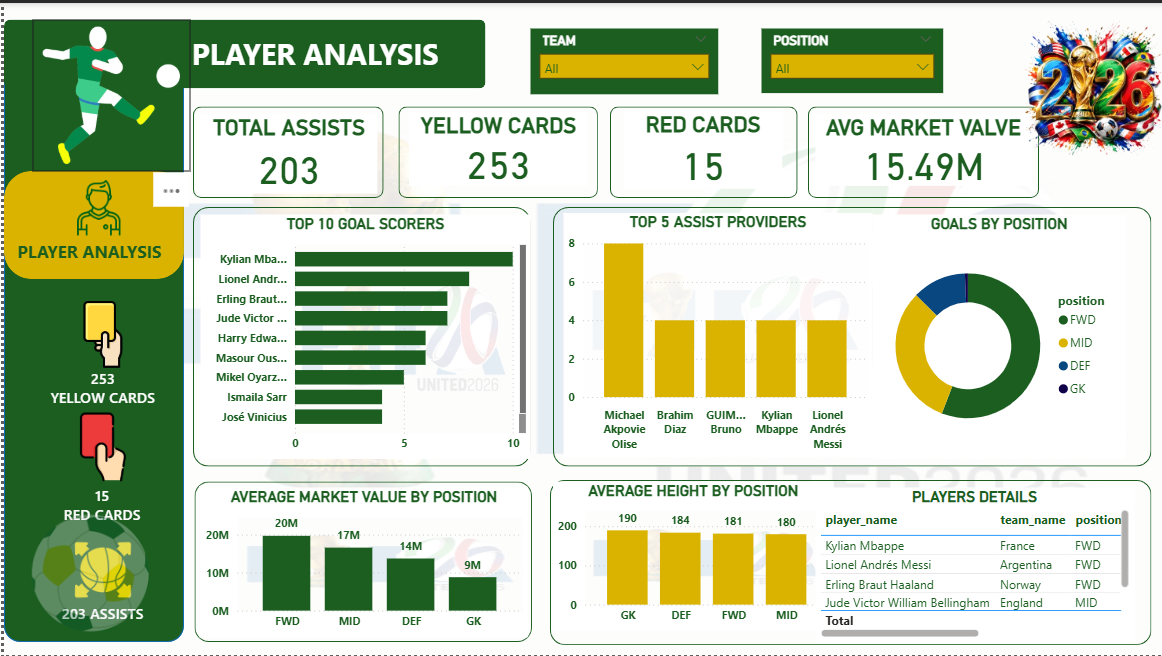

What the dashboard file says about the page in this screenshot:
{"tool":"powerbi","page":{"name":"Player Analysis","canvas":[1280,720],"ordinal":2},"visuals":[{"type":"shape","box":[210.4,528.4,372.7,177.2],"z":0},{"type":"shape","box":[603,526.8,664.2,182.2],"z":1000},{"type":"shape","box":[208.7,225.3,372.7,286.6],"z":2000},{"type":"shape","title":"RED CARDS","box":[669.2,114.3,207.1,101],"z":3000},{"type":"shape","title":"YELLOW CARDS","box":[435.7,114.3,220.3,101],"z":4000},{"type":"shape","box":[0,28.2,198.8,677.5],"z":5000},{"type":"shape","box":[0,18.2,531.7,76.2],"z":6000},{"type":"textbox","box":[198.8,28.2,289.9,58],"z":7000},{"type":"card","title":"YELLOW CARDS","fields":{"Values":["Measures (2).Total Yellow Cards"]},"box":[447.2,120.9,197.1,81.2],"z":8000},{"type":"card","title":"RED CARDS","fields":{"Values":["Measures (2).Total Red Cards"]},"box":[684.1,119.3,175.6,86.1],"z":9000},{"type":"clusteredBarChart","title":"TOP 10 GOAL SCORERS","fields":{"Category":["Dim_Players.player_name"],"Y":["Measures (2).Total Player Goals"]},"box":[217,233.6,364.4,270],"z":10000},{"type":"shape","box":[606.3,225.3,660.9,286.6],"z":11000},{"type":"clusteredColumnChart","title":"TOP 5 ASSIST PROVIDERS","fields":{"Category":["Dim_Players.player_name"],"Y":["Measures (2).Total Player Assists"]},"box":[617.9,231.9,341.2,270],"z":12000},{"type":"donutChart","title":"GOALS BY POSITION","fields":{"Category":["Dim_Players.position"],"Y":["Measures (2).Total Player Goals"]},"box":[959.1,233.6,279.9,270],"z":13000},{"type":"clusteredColumnChart","title":"AVERAGE MARKET VALUE BY POSITION","fields":{"Category":["Dim_Players.position"],"Y":["Measures (2).Average Market Value"]},"box":[217,535,361.1,165.6],"z":14000},{"type":"clusteredColumnChart","title":"AVERAGE HEIGHT BY POSITION","fields":{"Category":["Dim_Players.position"],"Y":["Measures (2).Average Height"]},"box":[606.3,528.4,309.8,165.6],"z":15000},{"type":"tableEx","title":"PLAYERS DETAILS","fields":{"Values":["Dim_Players.player_name","Dim_Teams.team_name","Dim_Players.position","Measures (2).Total Player Goals","Sum(Dim_Players.market_value_eur)"]},"box":[896.2,535,351.2,170.6],"z":16000},{"type":"shape","box":[208.7,114.3,210.4,101],"z":17000},{"type":"shape","title":"AVG MARKET VALUE","box":[887.9,114.3,255.1,101],"z":18000},{"type":"card","title":"TOTAL ASSISTS","fields":{"Values":["Measures (2).Total Assists"]},"box":[217,122.6,195.5,87.8],"z":19000},{"type":"card","title":"AVG MARKET VALVE","fields":{"Values":["Measures (2).Average Market Value"]},"box":[896.2,122.6,238.5,79.5],"z":20000},{"type":"image","box":[1124.8,0,155.7,190.5],"z":21000},{"type":"slicer","fields":{"Values":["Dim_Teams.team_name"]},"box":[581.4,28.2,207.1,72.9],"z":22000},{"type":"slicer","fields":{"Values":["Dim_Players.position"]},"box":[836.5,28.2,200.4,71.2],"z":23000},{"type":"image","box":[66.3,594.7,86.1,62.9],"z":24000},{"type":"image","box":[66.3,328,86.1,76.2],"z":25000},{"type":"image","box":[66.3,452.2,86.1,76.2],"z":26000},{"type":"textbox","box":[54.7,657.6,114.3,62.9],"z":27000},{"type":"textbox","box":[36.4,397.6,145.8,91.1],"z":28000},{"type":"textbox","box":[43.1,526.8,130.9,76.2],"z":29000},{"type":"shape","box":[0,185.5,198.8,119.3],"z":30000},{"type":"textbox","box":[9.9,256.8,180.6,48],"z":31000},{"type":"image","box":[31.5,18.2,173.9,167.3],"z":32000},{"type":"image","box":[54.7,195.5,99.4,61.3],"z":33000},{"type":"image","box":[0,564.9,190.5,129.2],"z":33001},{"type":"slicer","fields":{"Values":["Team Flag.Flag"]},"box":[935.9,79.5,299.8,150.7],"z":33002}]}

Visuals, with their boxes in screenshot pixels (x1, y1, x2, y2), scaled from the page's 1280x720 canvas onto the 1162x656 screenshot:
shape: (191, 481, 529, 643)
shape: (547, 480, 1150, 646)
shape: (189, 205, 528, 466)
"RED CARDS" shape: (608, 104, 796, 196)
"YELLOW CARDS" shape: (396, 104, 596, 196)
shape: (0, 26, 180, 643)
shape: (0, 17, 483, 86)
textbox: (180, 26, 444, 79)
"YELLOW CARDS" card: (406, 110, 585, 184)
"RED CARDS" card: (621, 109, 780, 187)
"TOP 10 GOAL SCORERS" clusteredBarChart: (197, 213, 528, 459)
shape: (550, 205, 1150, 466)
"TOP 5 ASSIST PROVIDERS" clusteredColumnChart: (561, 211, 871, 457)
"GOALS BY POSITION" donutChart: (871, 213, 1125, 459)
"AVERAGE MARKET VALUE BY POSITION" clusteredColumnChart: (197, 487, 525, 638)
"AVERAGE HEIGHT BY POSITION" clusteredColumnChart: (550, 481, 832, 632)
"PLAYERS DETAILS" tableEx: (814, 487, 1132, 643)
shape: (189, 104, 380, 196)
"AVG MARKET VALUE" shape: (806, 104, 1038, 196)
"TOTAL ASSISTS" card: (197, 112, 374, 192)
"AVG MARKET VALVE" card: (814, 112, 1030, 184)
image: (1021, 0, 1161, 174)
slicer - Dim_Teams.team_name: (528, 26, 716, 92)
slicer - Dim_Players.position: (759, 26, 941, 91)
image: (60, 542, 138, 599)
image: (60, 299, 138, 368)
image: (60, 412, 138, 481)
textbox: (50, 599, 153, 655)
textbox: (33, 362, 165, 445)
textbox: (39, 480, 158, 549)
shape: (0, 169, 180, 278)
textbox: (9, 234, 173, 278)
image: (29, 17, 186, 169)
image: (50, 178, 140, 234)
image: (0, 515, 173, 632)
slicer - Team Flag.Flag: (850, 72, 1122, 210)
